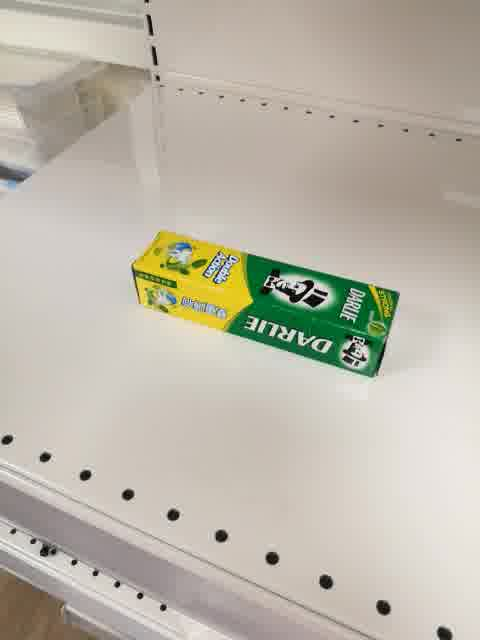toothpaste: (132, 229, 399, 379)
